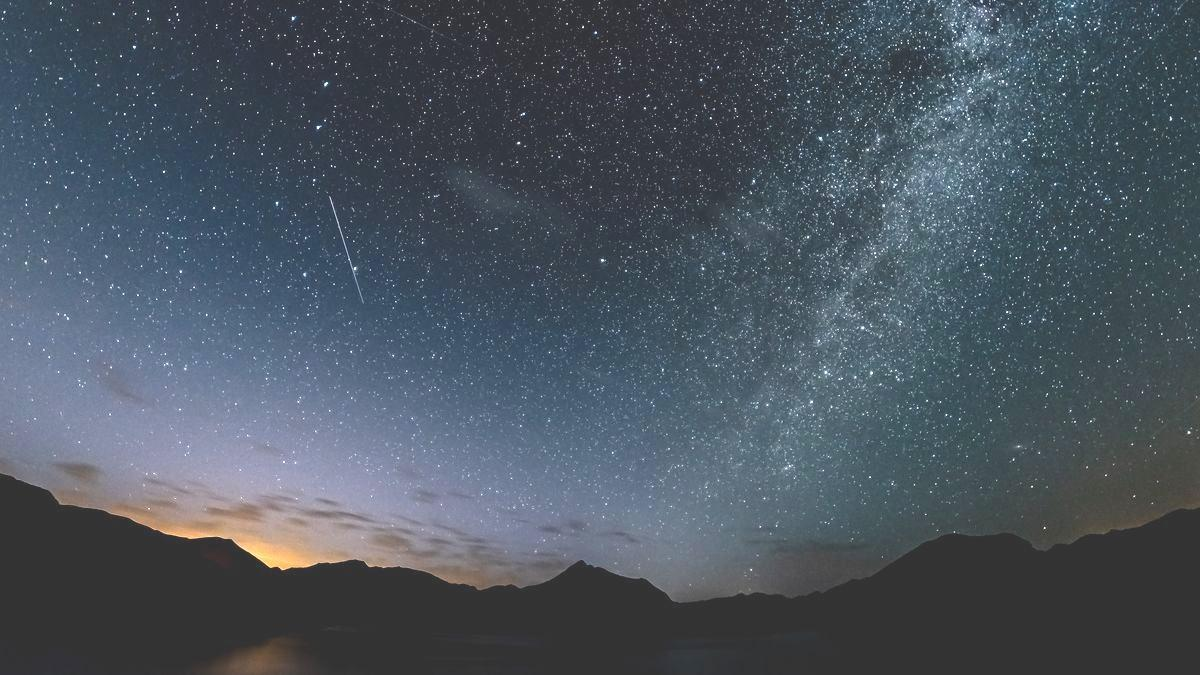meteorite: (319, 185, 367, 301)
